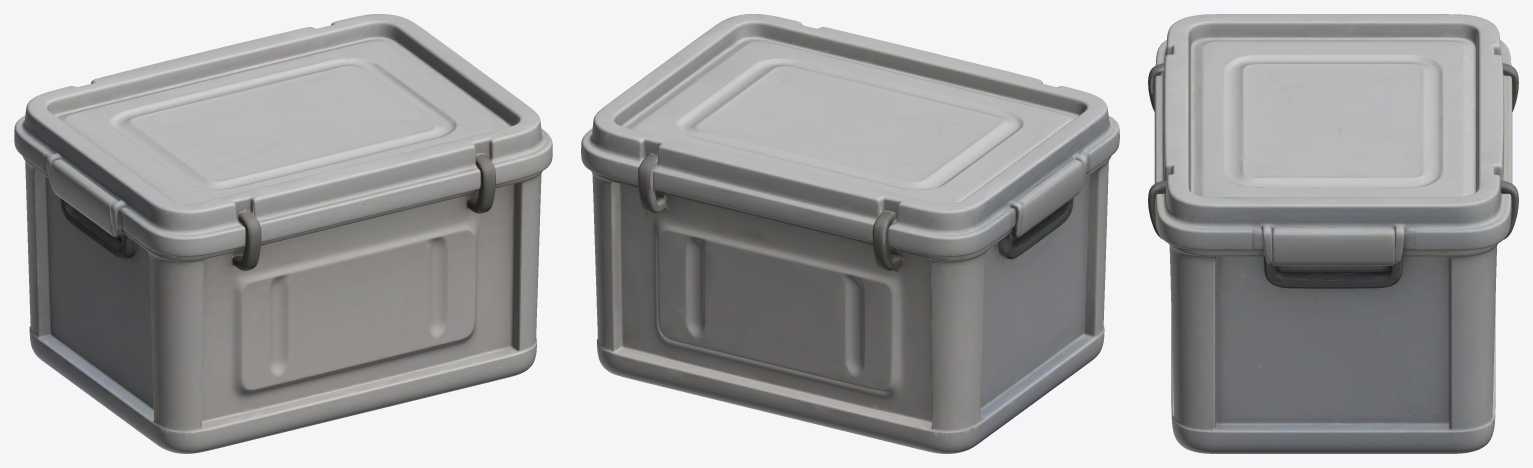
Rendered from storage_container_3d82f0c5_v2.glb.
The picture shows the model from 3 angles, left to right: view 1: azimuth 30°, elevation 25°; view 2: azimuth 150°, elevation 25°; view 3: azimuth 270°, elevation 25°; orthographic projection. The views are drawn at different scales.
Visible parts, largest first — view 1: material; view 2: material; view 3: material.
Boxes of the visible parts, x1,y1,x2,y2 form: material: [14, 14, 552, 453]; material: [581, 14, 1119, 453]; material: [1148, 14, 1518, 453].
Bounding box in the file's own units: 0.9656 × 0.5669 × 0.7409.
Materials: 1 (1 with a texture image).
